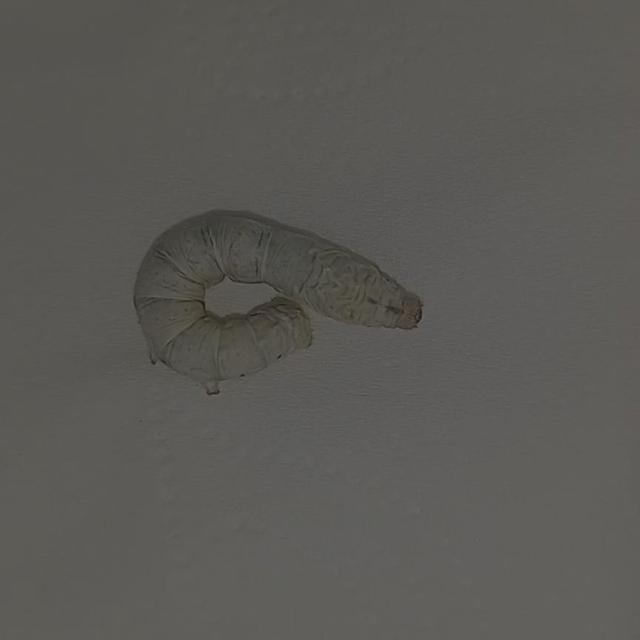Healthy: (125, 202, 433, 396)
